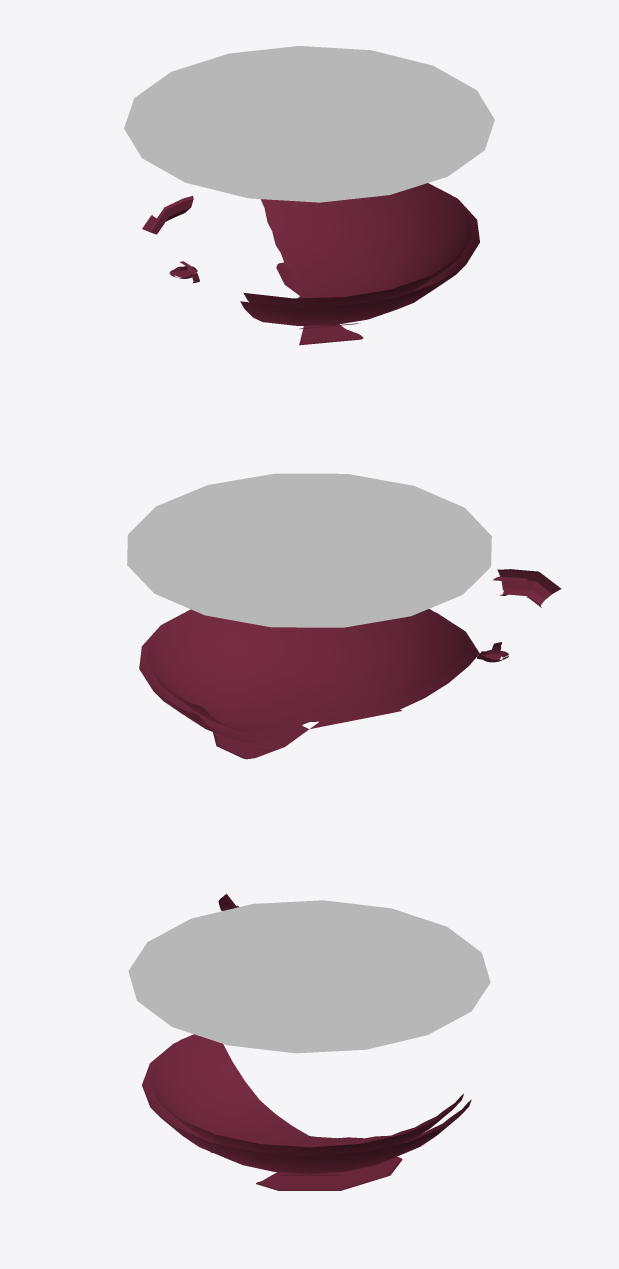
Rendered from CostaMugc4d.obj.
3 views of the same model, one above another, from view 1: azimuth 30°, elevation 25°; view 2: azimuth 150°, elevation 25°; view 3: azimuth 270°, elevation 25° (orthographic). The views are drawn at different scales.
Parts seen in each view (by area): view 1: mug; view 2: mug; view 3: mug.
Boxes of the visible parts, left/top/right/bottom form: mug: left=124, top=46, right=494, bottom=345; mug: left=127, top=473, right=561, bottom=759; mug: left=128, top=894, right=490, bottom=1190.
Bounding box in the file's own units: 8.11 × 3.39 × 8.52.
Materials: 2 (1 with a texture image).
